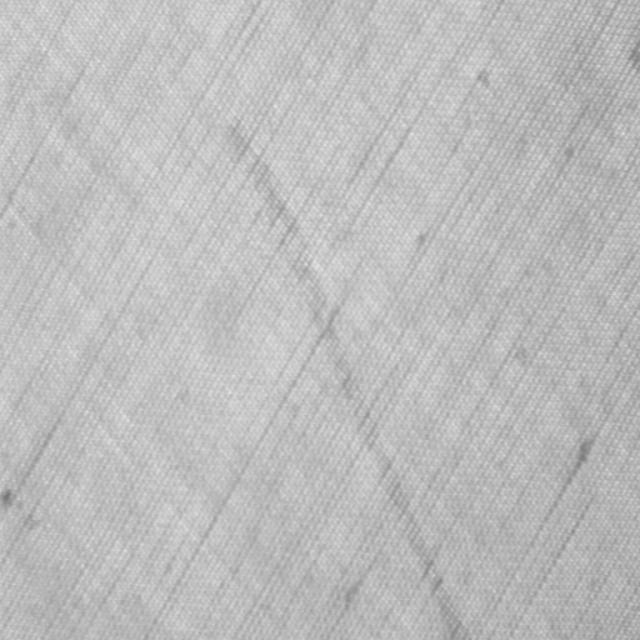oil spot: (223, 111, 466, 639)
